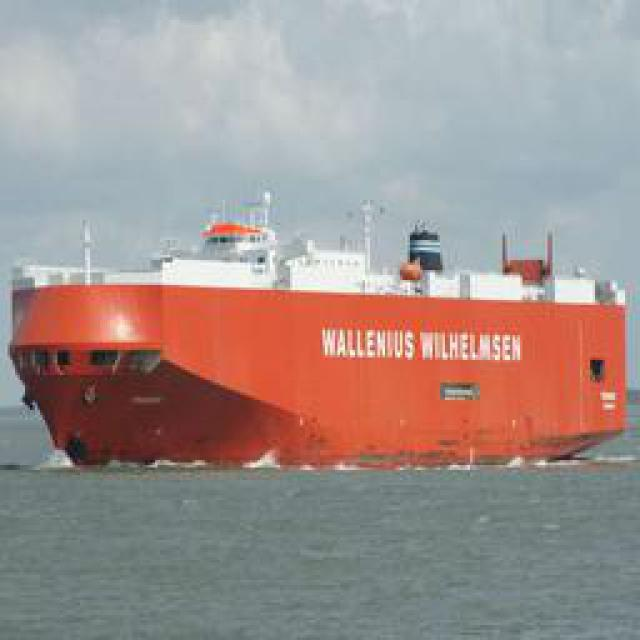Ship: (13, 200, 640, 463)
